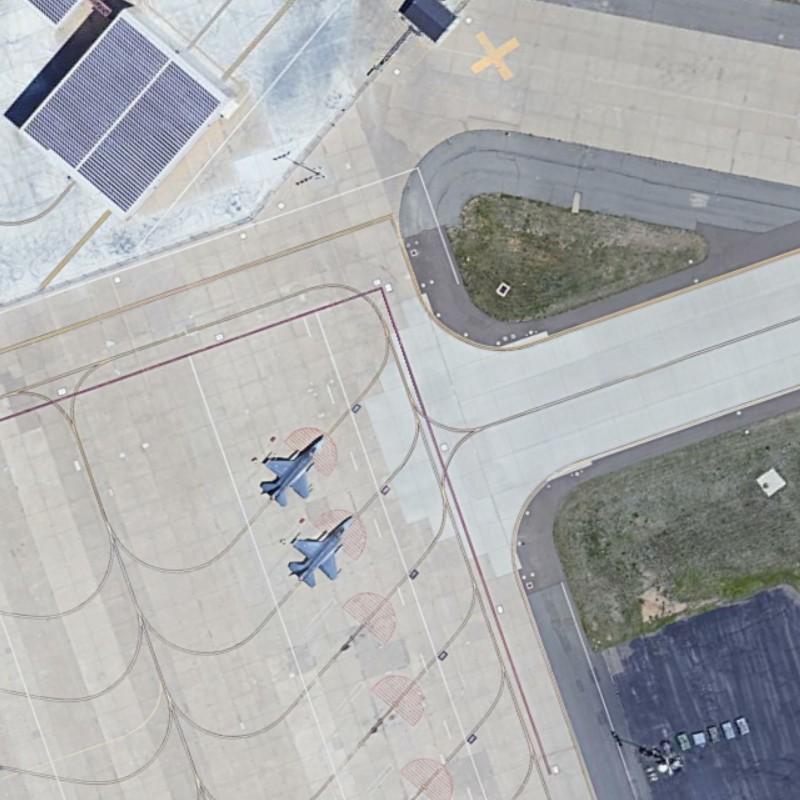A5: (255, 428, 328, 510), (281, 513, 353, 589)
